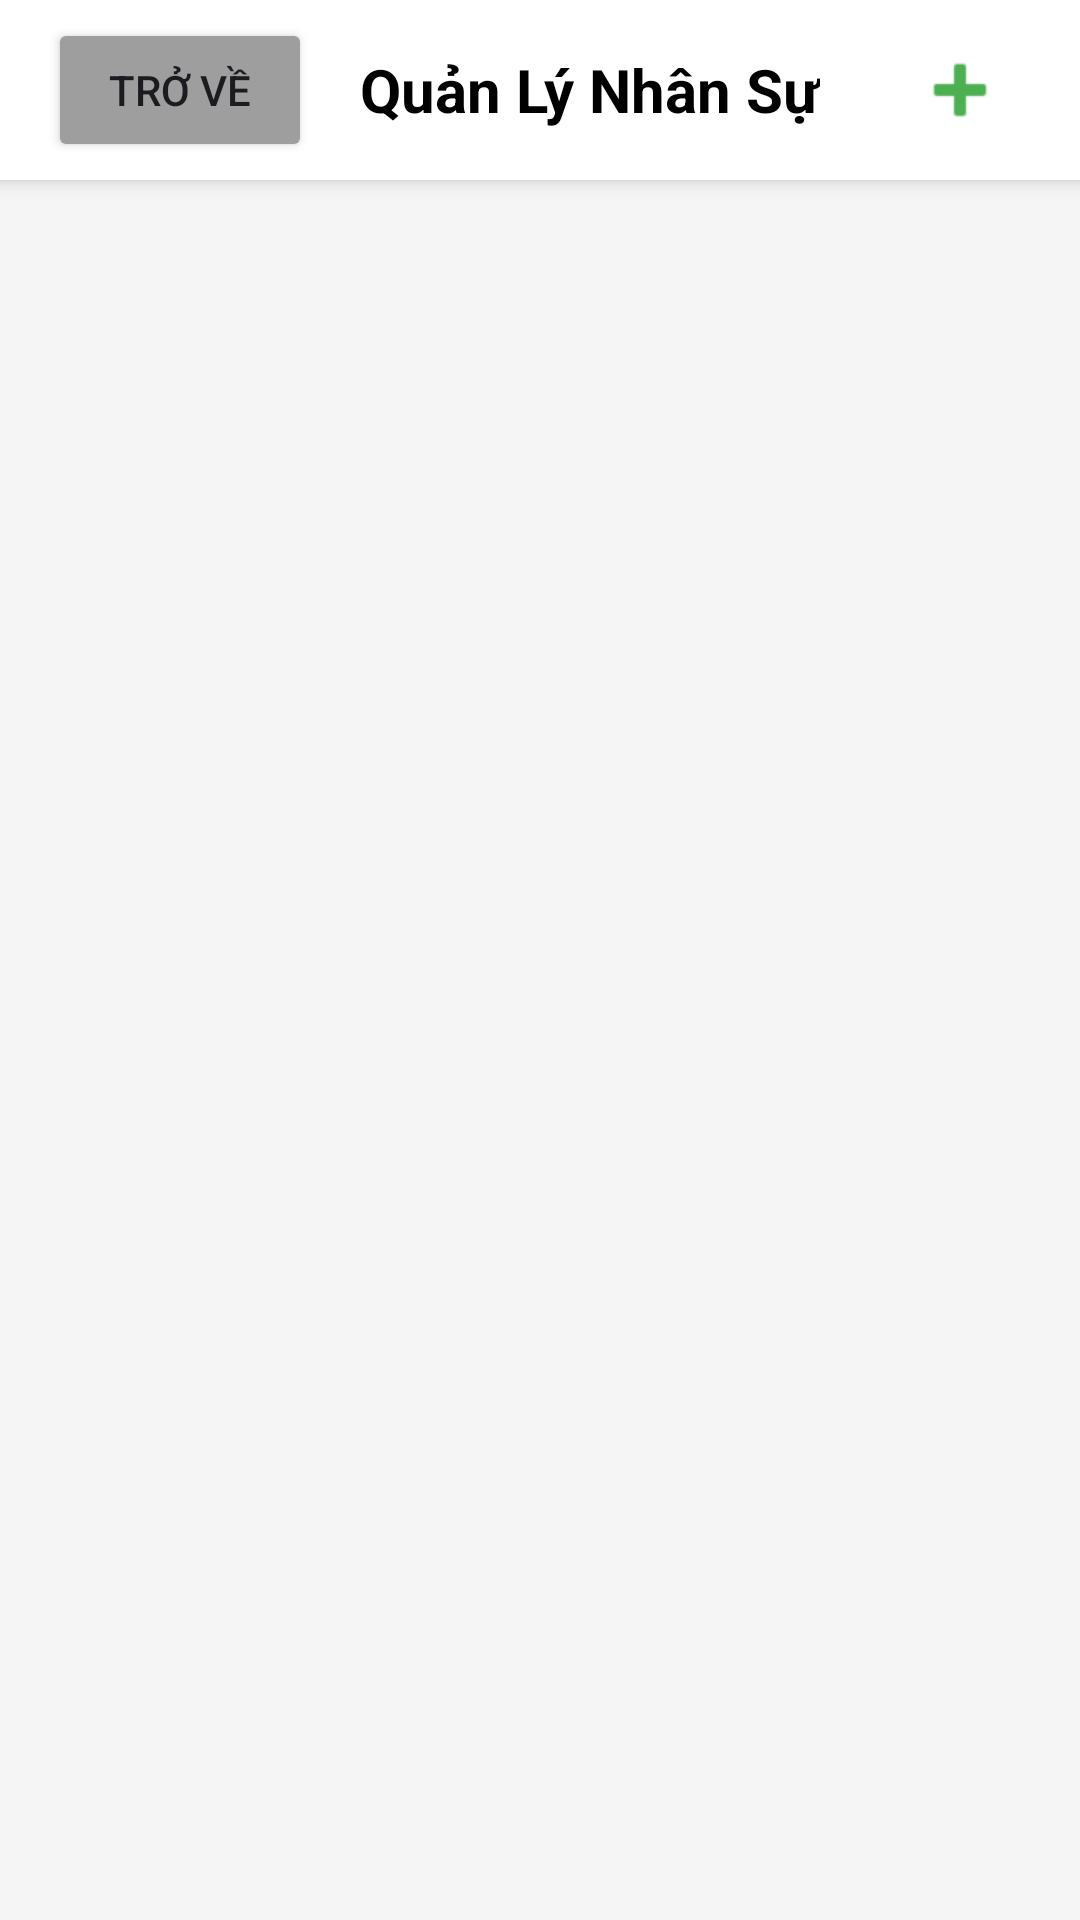

Icon click points for this 1080×1920 phone screenshot, format (x,y):
add: (960,90)
